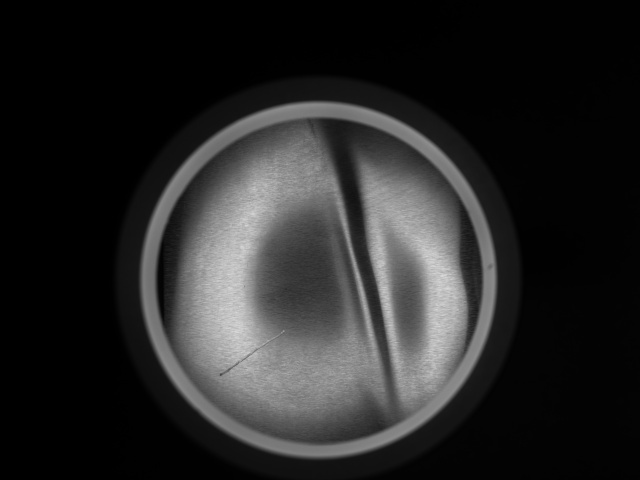ca_shang: (216, 324, 288, 379)
zhe_zhou: (198, 145, 434, 414)
